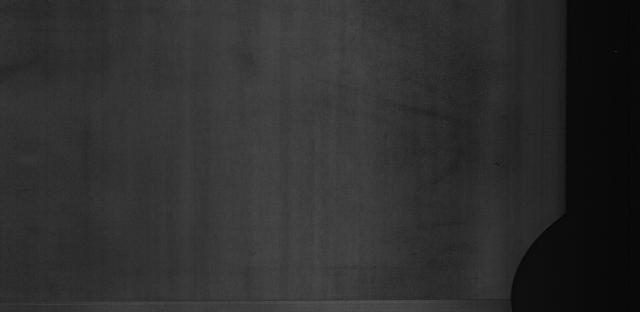welding_line: (0, 292, 524, 309)
